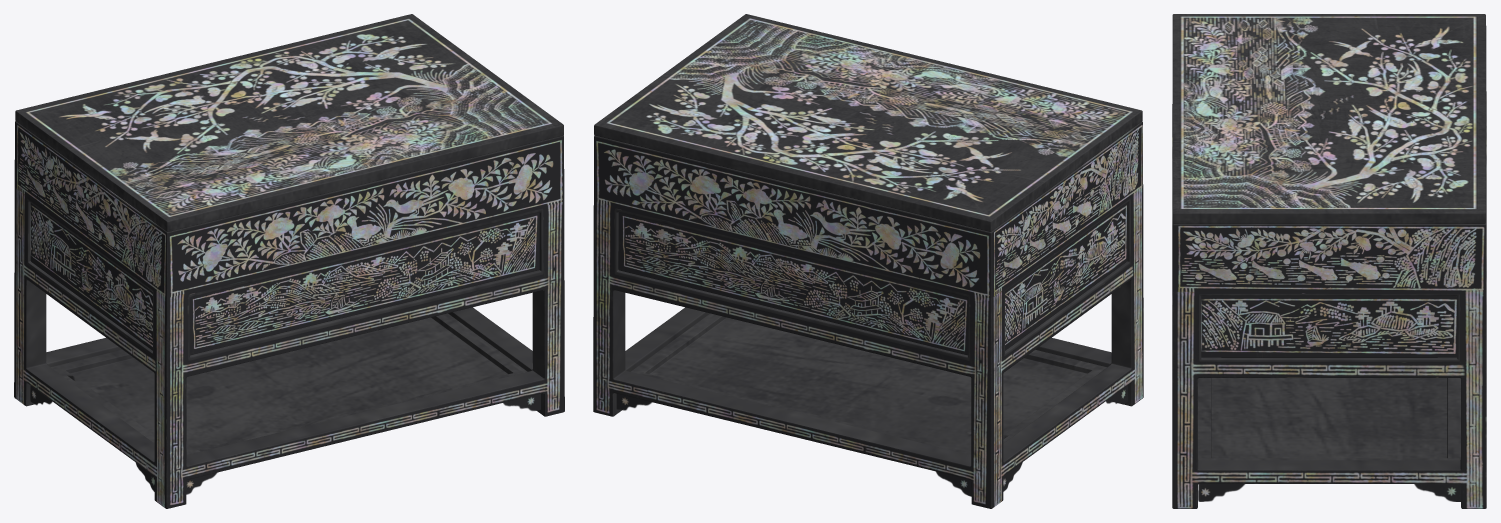
Rendered from gt_cabinet.glb.
The picture shows the model from 3 angles, left to right: view 1: azimuth 30°, elevation 25°; view 2: azimuth 150°, elevation 25°; view 3: azimuth 270°, elevation 25°; orthographic projection. The views are drawn at different scales.
Parts seen in each view (by area): view 1: SM_GTJ_CabinetD; view 2: SM_GTJ_CabinetD; view 3: SM_GTJ_CabinetD.
Part boxes in pixels (<box>): SM_GTJ_CabinetD: <box>14,14,564,508</box>; SM_GTJ_CabinetD: <box>593,14,1143,508</box>; SM_GTJ_CabinetD: <box>1172,14,1486,508</box>.
Size of the model in its own units: 0.3764 by 0.2594 by 0.2496.
Materials: 1 (1 with a texture image).
